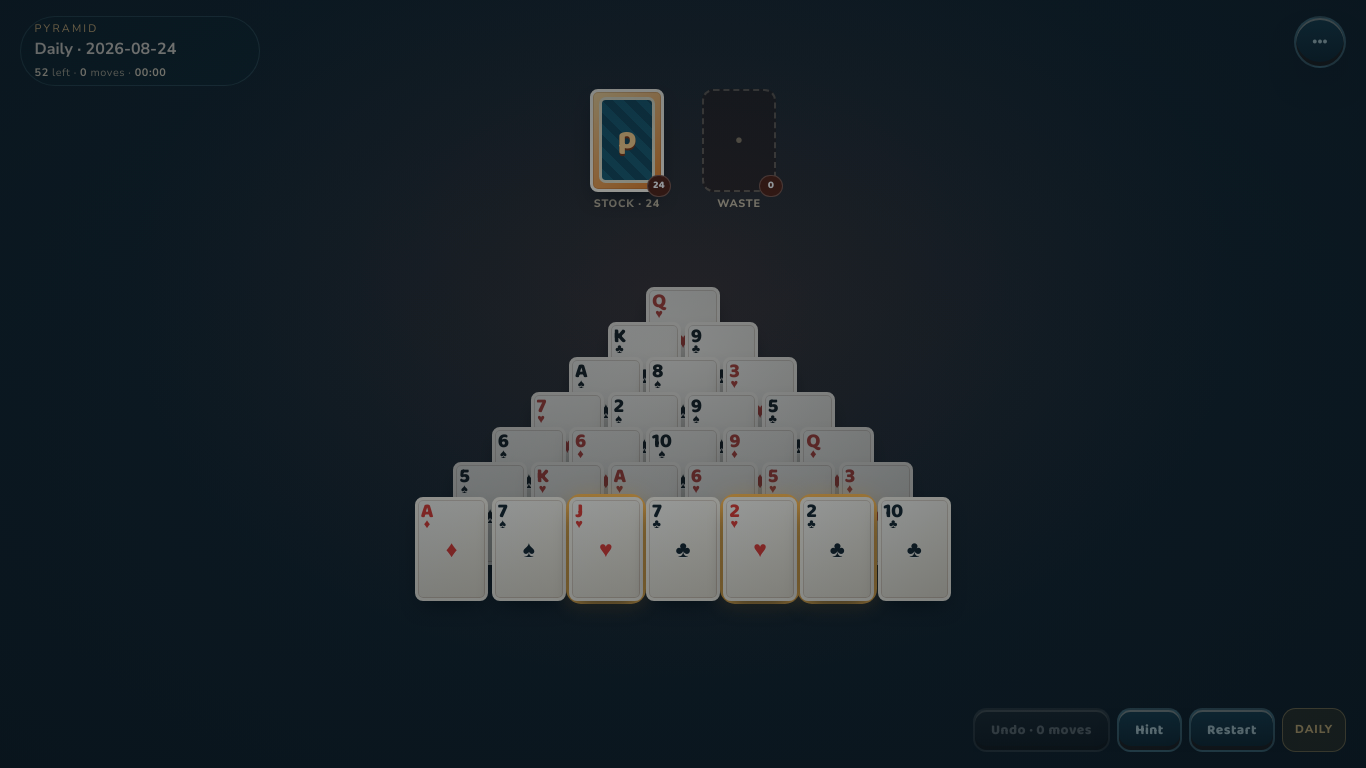
Scenario: table shell contract across every shipped screen › pyramid opens the shared menu and only quits once confirmed
This screenshot has width=1366, height=768.
Click the button named "Table menu".
click(1320, 42)  # box [1294,16,1346,68]
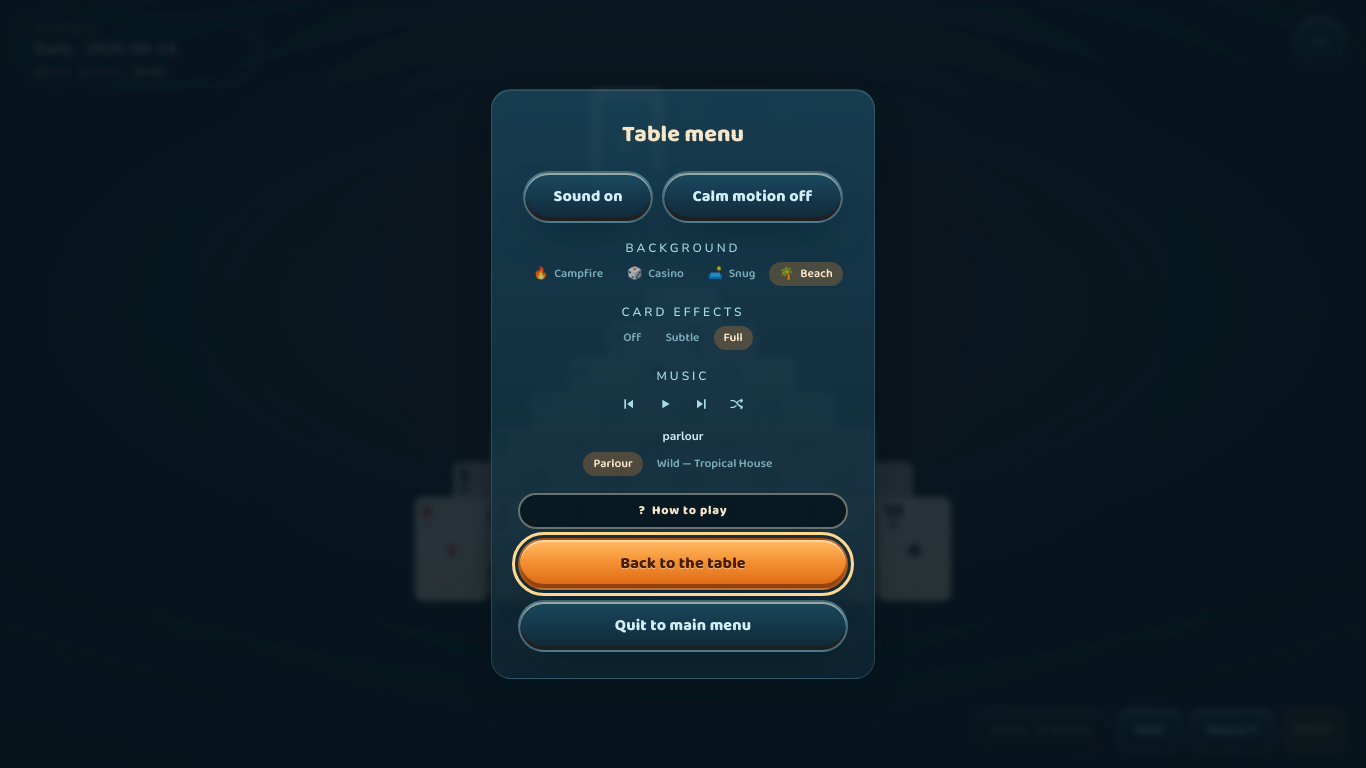
Result: the element with test id "table-menu" is shown
Click the button with test id "quit-to-menu".
click(683, 626)  # box [518,600,848,652]
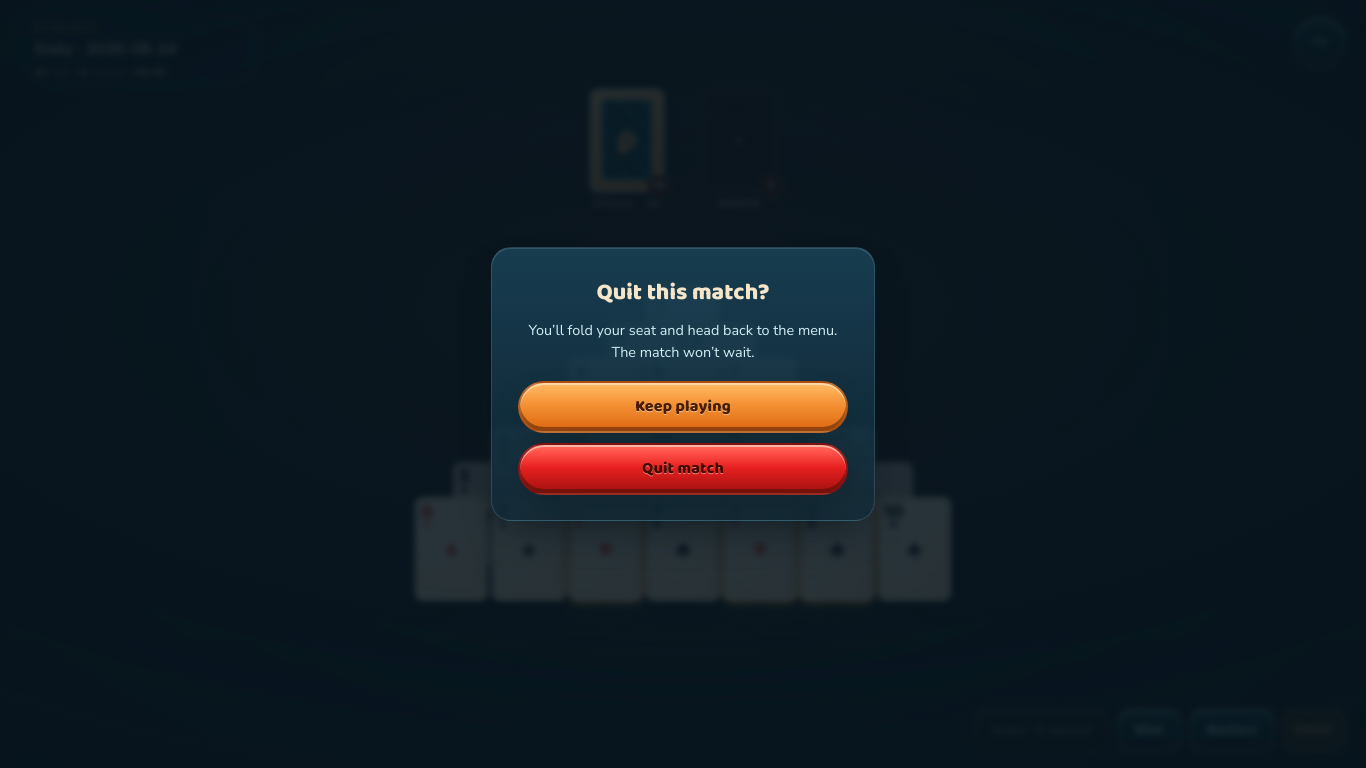
Click the button with test id "confirm-quit".
click(683, 469)  # box [518,443,848,495]
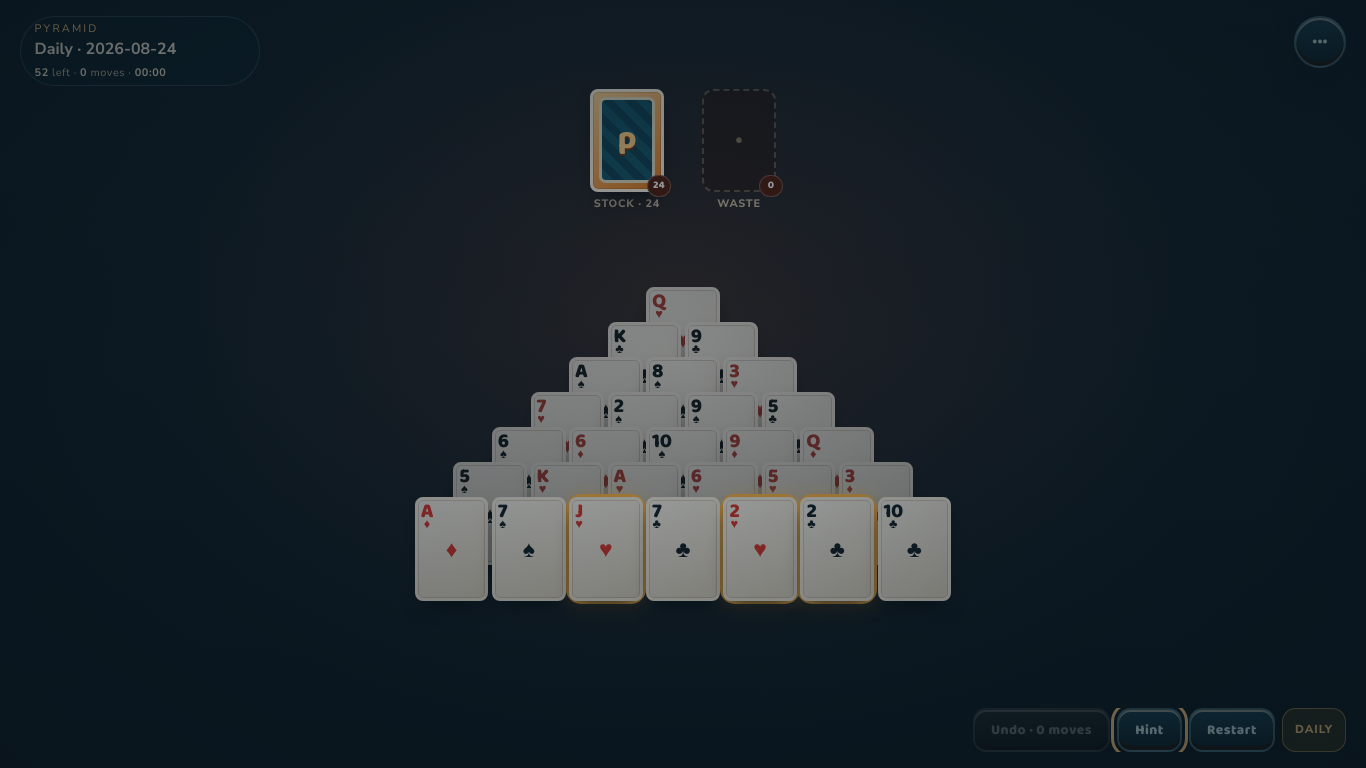
Result: the element with test id "table-menu" is gone
